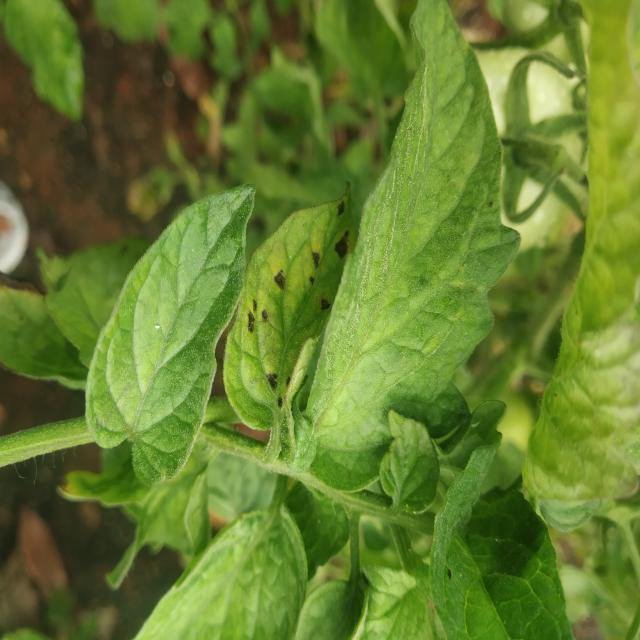Tomato mosaic virus leaf: (218, 177, 357, 435)
